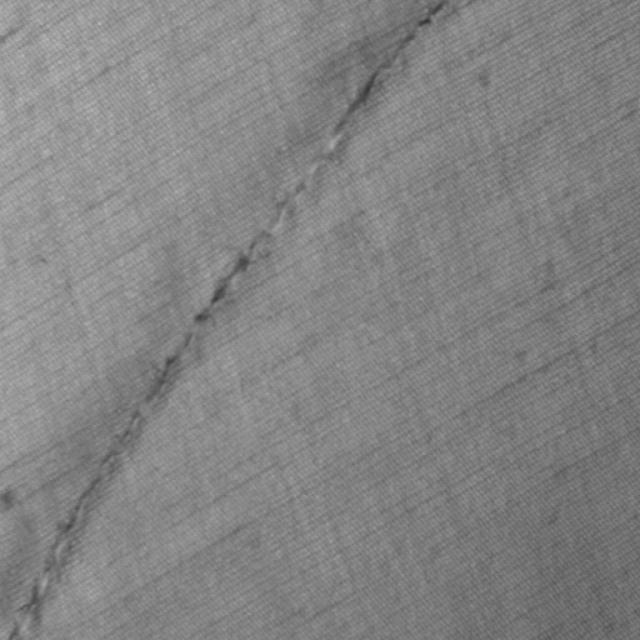objects: (2, 0, 469, 638)
